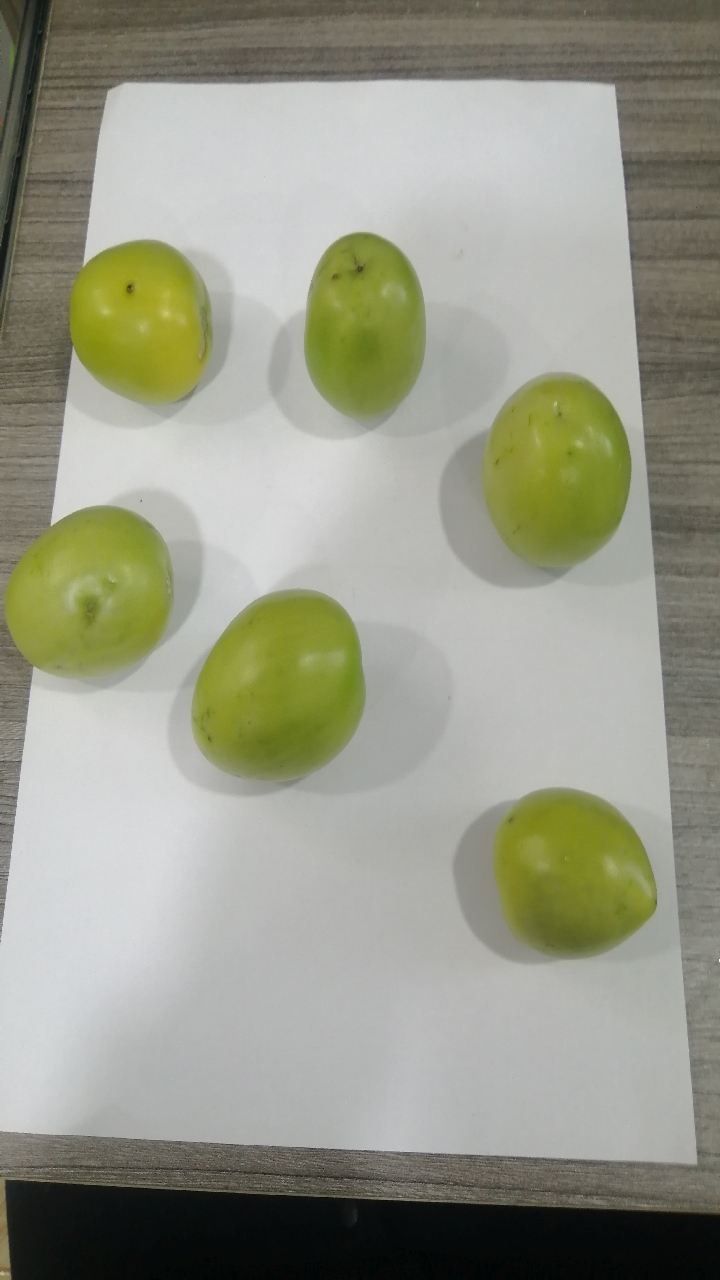tomateVerde: (169, 566, 398, 814), (457, 354, 655, 591), (466, 762, 681, 971), (6, 469, 189, 699), (49, 219, 231, 425), (294, 223, 437, 428)
